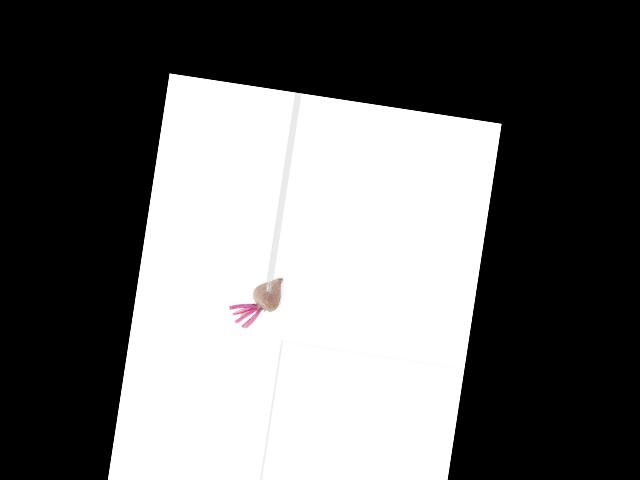beet: (226, 270, 283, 332)
